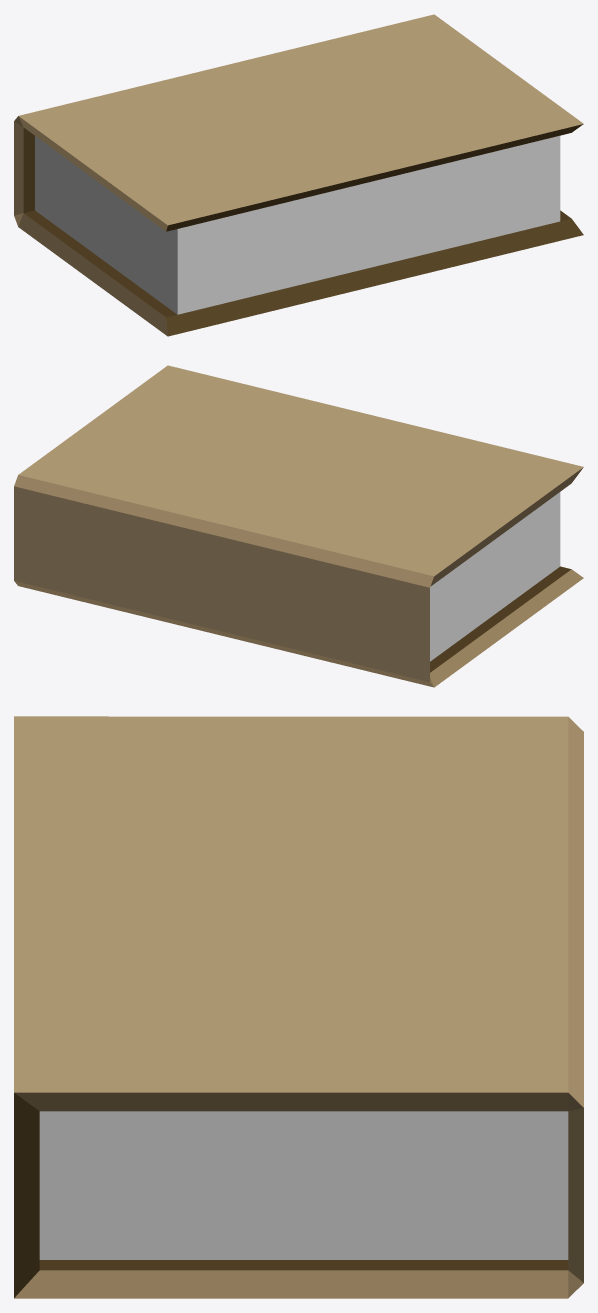
File: book_3.fbx
3 renders of one model, top to bottom at view 1: azimuth 30°, elevation 25°; view 2: azimuth 150°, elevation 25°; view 3: azimuth 270°, elevation 25°, orthographic. The views are drawn at different scales.
Parts seen in each view (by area): view 1: book_1.002; view 2: book_1.002; view 3: book_1.002.
Part boxes in pixels (left/top/right/bottom): book_1.002: left=14, top=14, right=583, bottom=336; book_1.002: left=14, top=365, right=583, bottom=687; book_1.002: left=14, top=716, right=583, bottom=1298.
Bounding box in the file's own units: 272 × 69.37 × 174.
